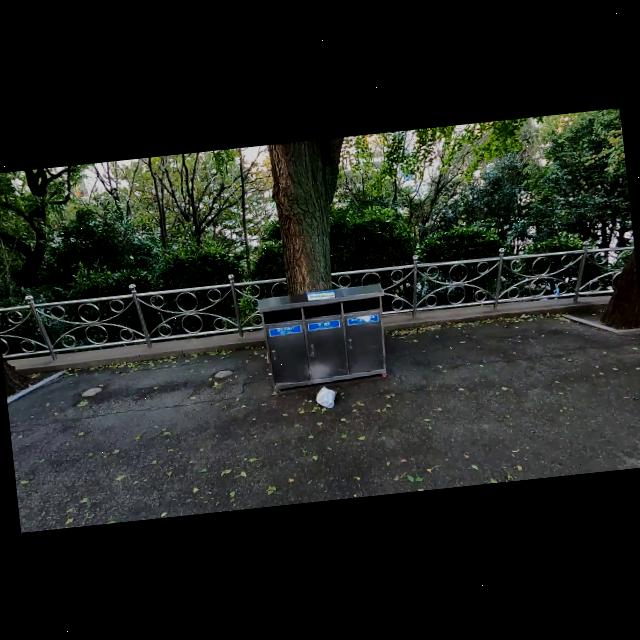trash: (312, 384, 338, 411)
